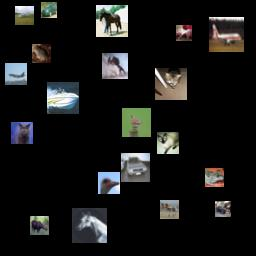airplane: (209, 17, 244, 52), (5, 63, 27, 85), (15, 6, 34, 25), (160, 200, 179, 219)
automobile: (121, 153, 150, 182), (215, 201, 231, 217), (41, 2, 57, 18)
bird: (122, 108, 151, 137), (98, 172, 120, 194)
cat: (155, 68, 187, 100), (11, 122, 33, 144), (157, 132, 179, 154), (176, 25, 192, 41)
deer: (30, 216, 49, 235)
dog: (102, 53, 128, 79)
frog: (205, 168, 224, 187), (32, 44, 51, 63)
ship: (47, 82, 79, 114)
